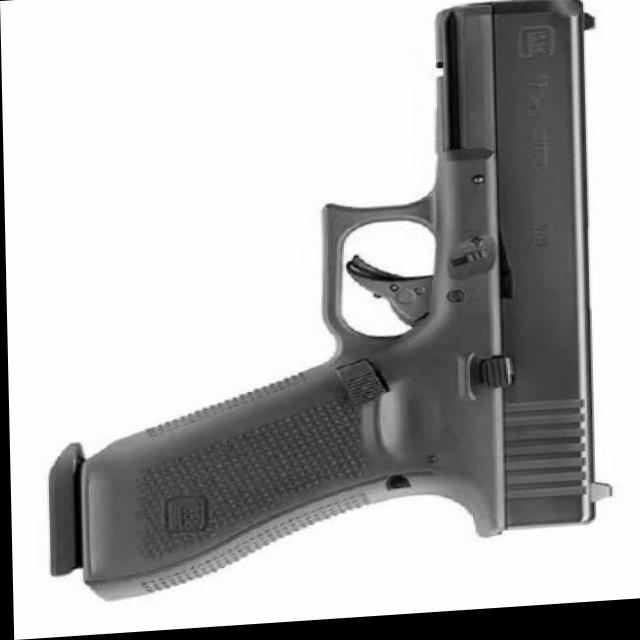handgun: (0, 0, 613, 606)
